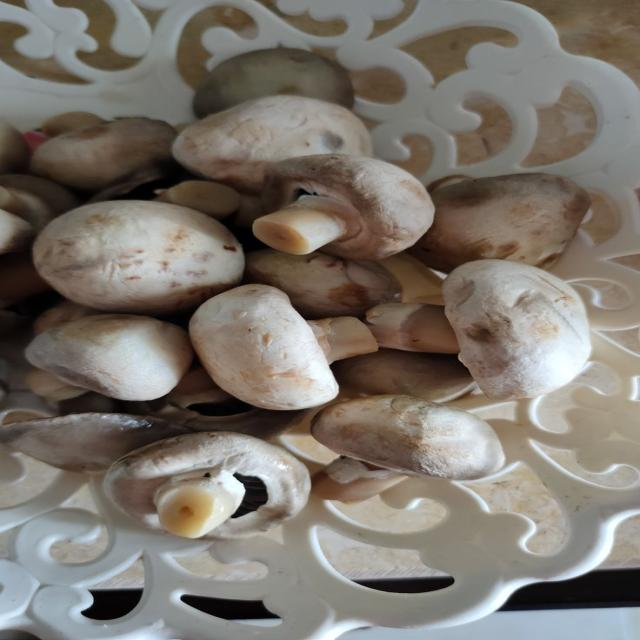champignon mushrooms: (34, 201, 244, 314), (190, 285, 377, 410), (105, 433, 310, 540), (443, 260, 590, 399), (312, 395, 504, 501), (174, 96, 372, 192), (254, 155, 433, 260), (411, 174, 589, 272), (26, 315, 193, 400), (0, 413, 189, 473), (194, 48, 353, 117), (245, 250, 401, 319), (30, 118, 175, 190), (333, 349, 475, 402), (148, 395, 306, 439), (367, 303, 459, 353), (87, 164, 175, 204), (307, 317, 378, 364), (0, 174, 79, 215), (155, 181, 239, 219), (0, 253, 49, 309), (167, 367, 232, 407), (0, 187, 54, 229), (33, 301, 99, 335), (25, 369, 86, 401), (41, 112, 105, 137), (0, 209, 35, 254), (58, 391, 122, 415), (0, 121, 29, 173), (427, 175, 472, 193), (0, 310, 26, 337)
